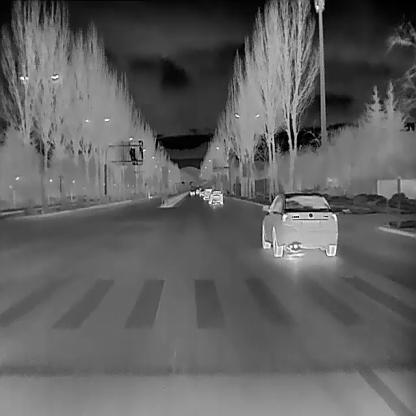car: (259, 190, 338, 257), (207, 188, 223, 204), (202, 186, 212, 199), (199, 188, 204, 196), (189, 189, 195, 195), (195, 188, 199, 193)
